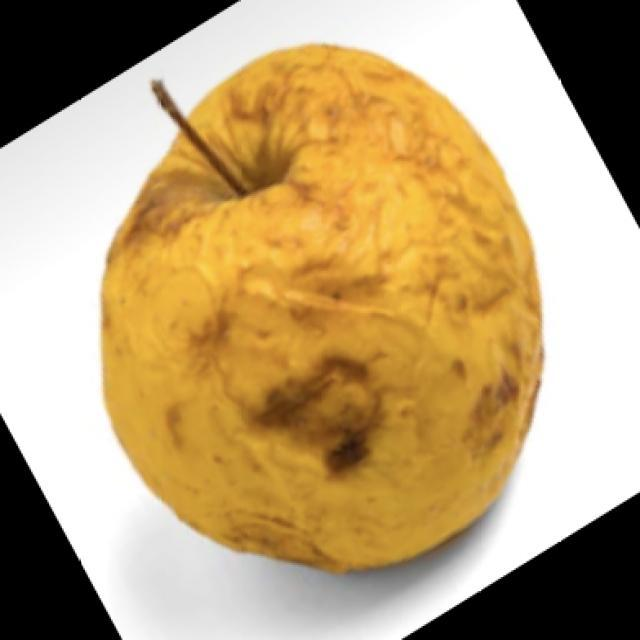Rotten: (78, 41, 545, 586)
